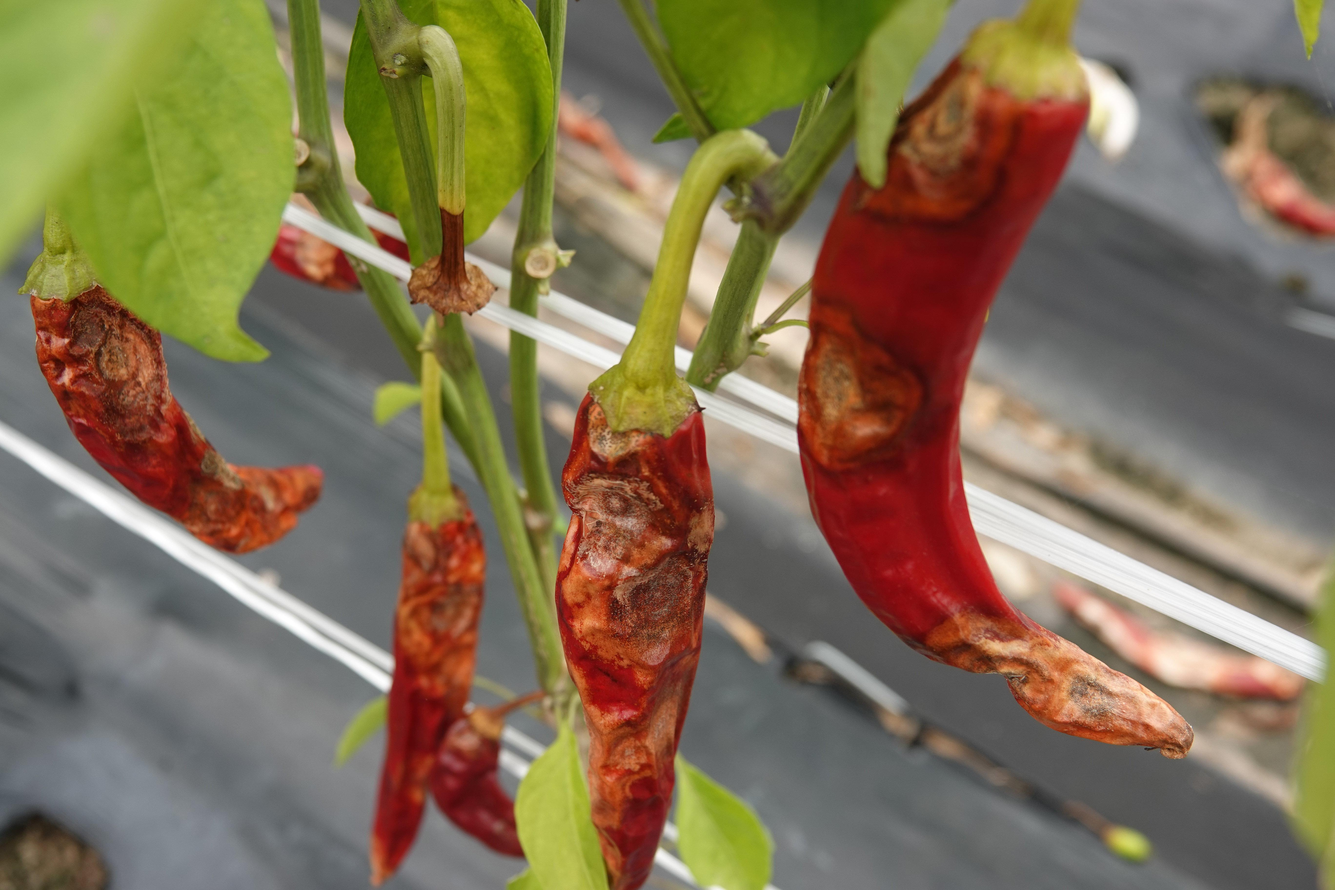Busuk Buah Antraknosa: (791, 2, 1196, 761), (24, 245, 333, 560), (561, 359, 724, 890), (366, 491, 490, 890)
